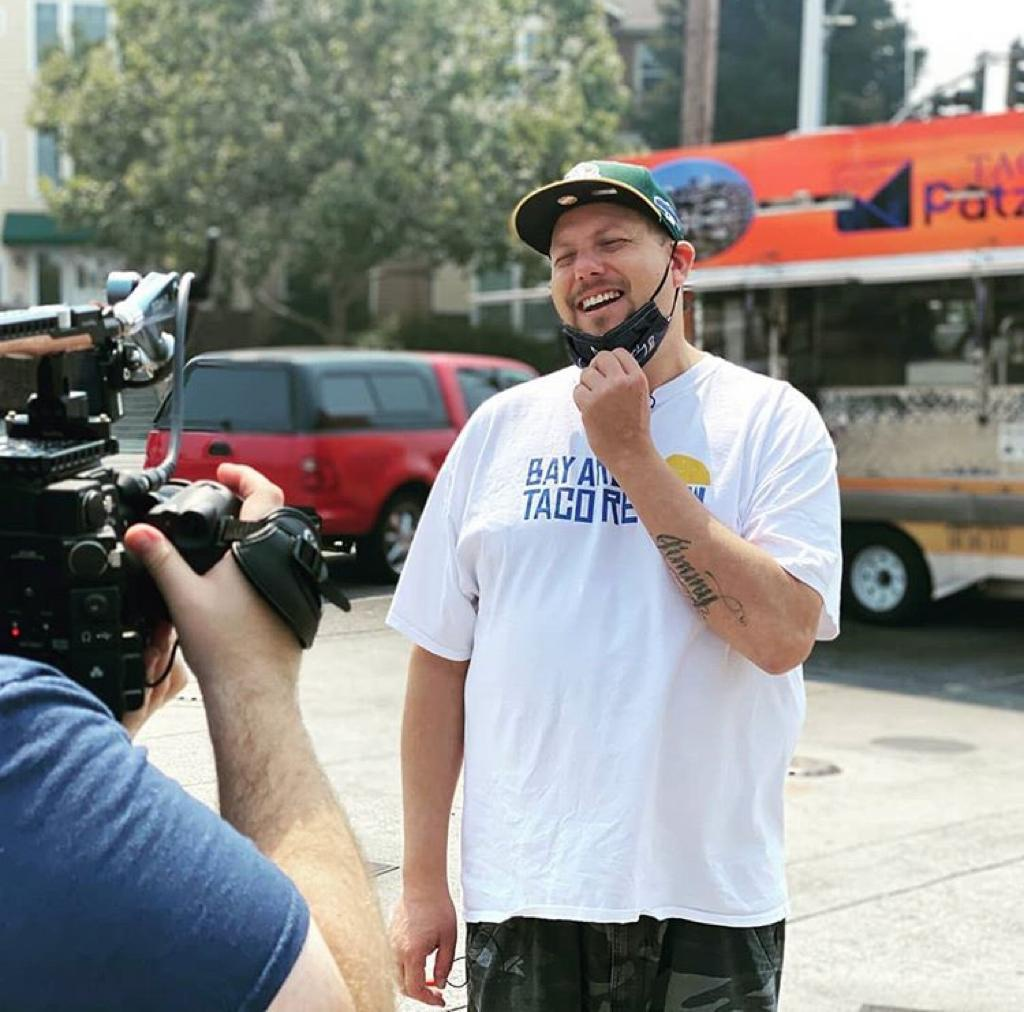mouth: (569, 286, 622, 316)
nose: (571, 262, 602, 282)
